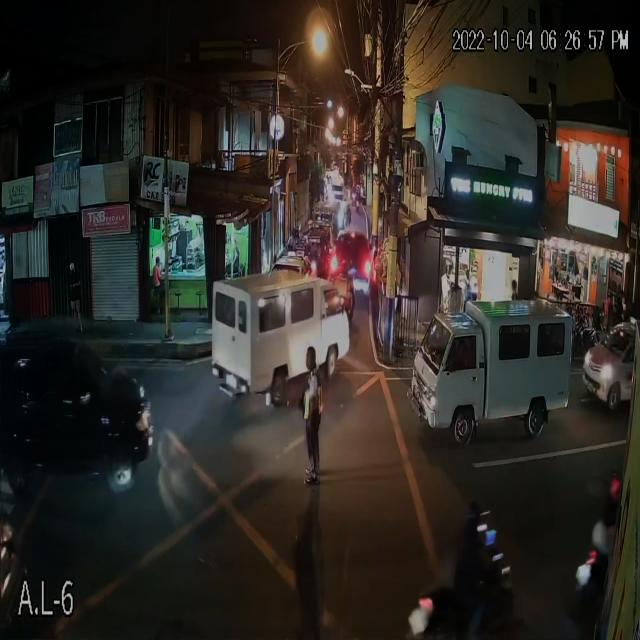Full-Faced: (462, 500, 488, 545), (609, 471, 622, 498)
